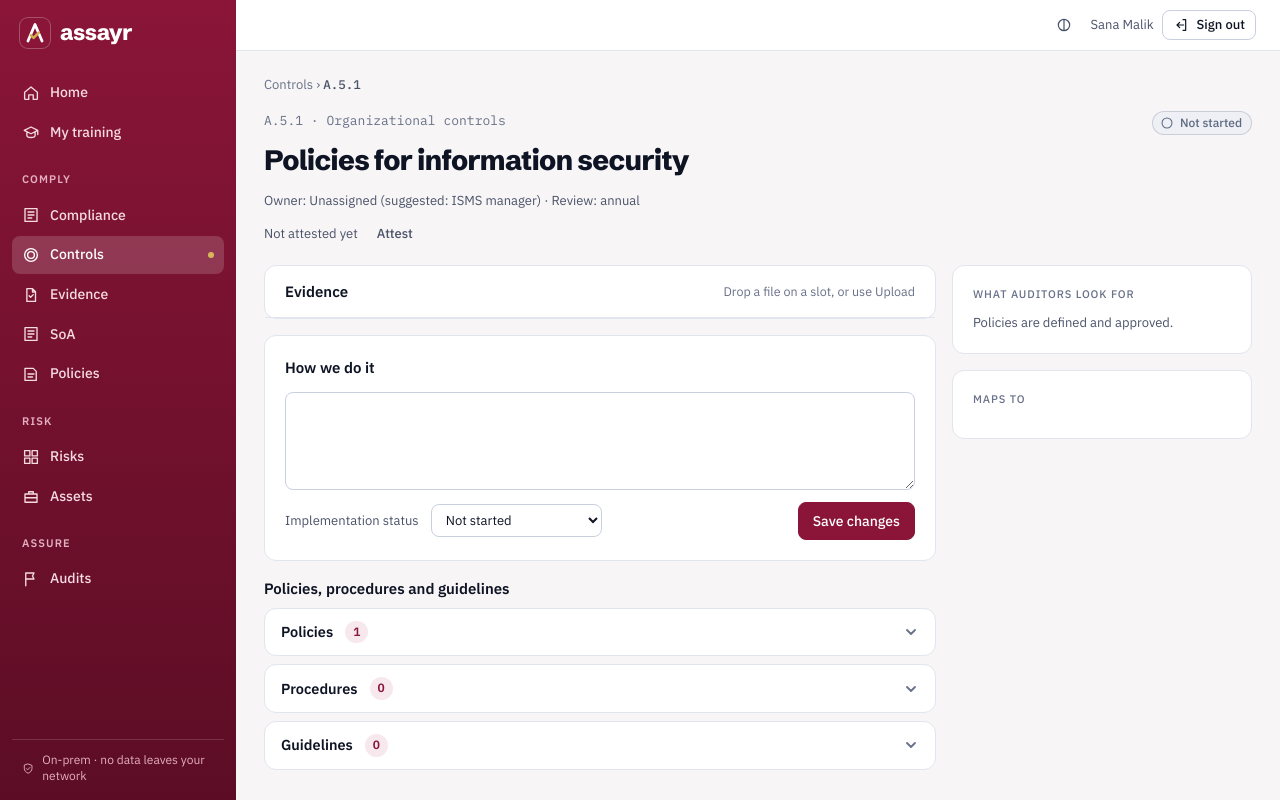
Scenario: the control page shows policies, procedures and guidelines
Click the button "Policies 1".
click(307, 631)  # box left=265, top=609, right=935, bottom=655
(page scrolled)
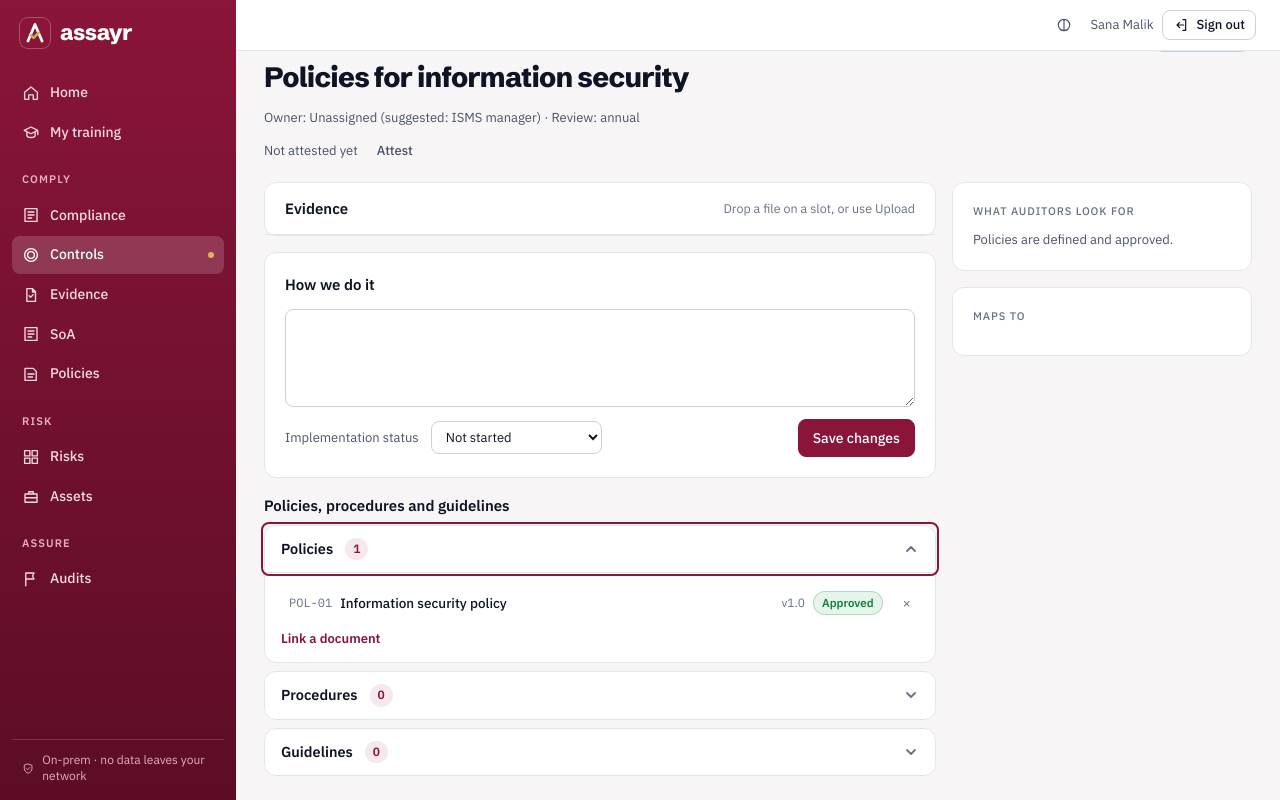
Click the button "Procedures 0".
click(319, 694)  # box left=265, top=672, right=935, bottom=718
(page scrolled)
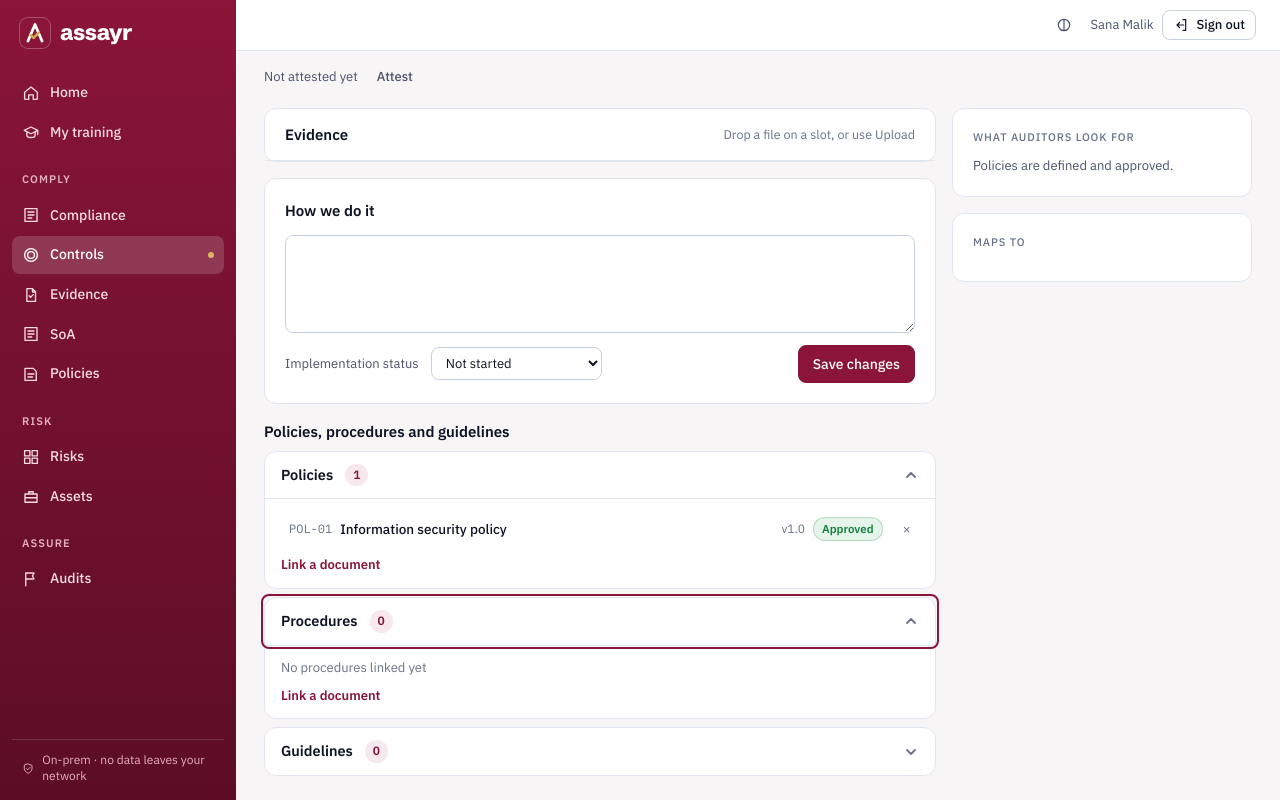
Expected: the text "No procedures linked yet" is shown, left=281, top=658, right=426, bottom=676
